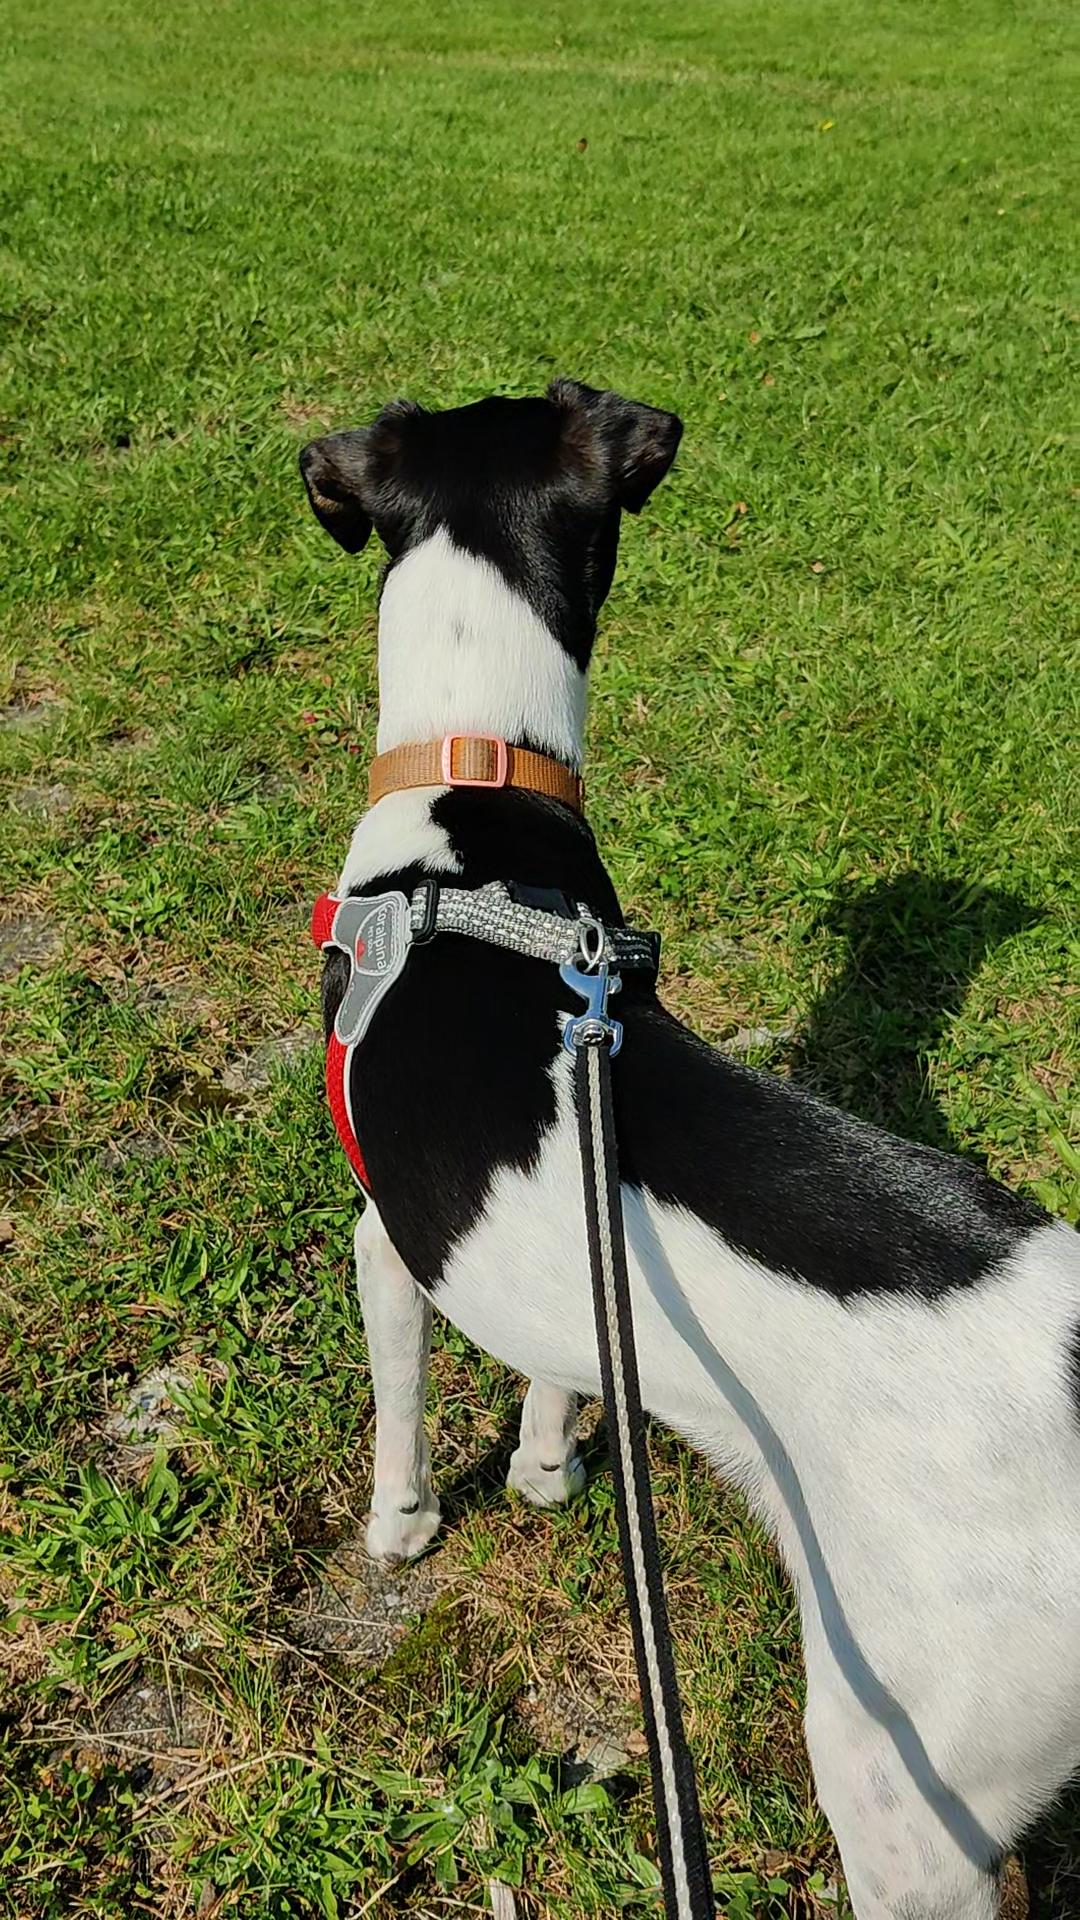Dog: (287, 367, 1079, 1919)
